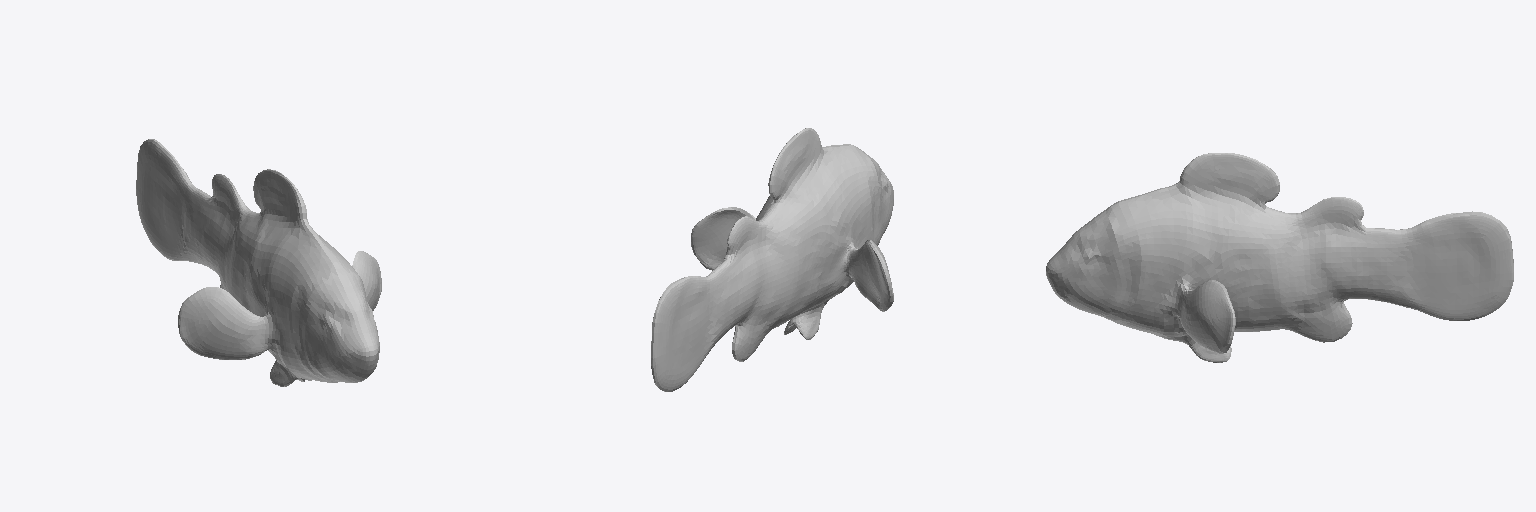
Rendered from nemo_object.obj.
3 views of the same model, side by side, from view 1: azimuth 30°, elevation 25°; view 2: azimuth 150°, elevation 25°; view 3: azimuth 270°, elevation 25° (orthographic).
Parts seen in each view (by area): view 1: Clownfish_Quad; view 2: Clownfish_Quad; view 3: Clownfish_Quad.
Boxes of the visible parts, x1,y1,x2,y2 form: Clownfish_Quad: [136, 139, 381, 386]; Clownfish_Quad: [651, 128, 893, 391]; Clownfish_Quad: [1046, 153, 1513, 362].
Bounding box in the file's own units: 0.0322 × 0.0312 × 0.0647.